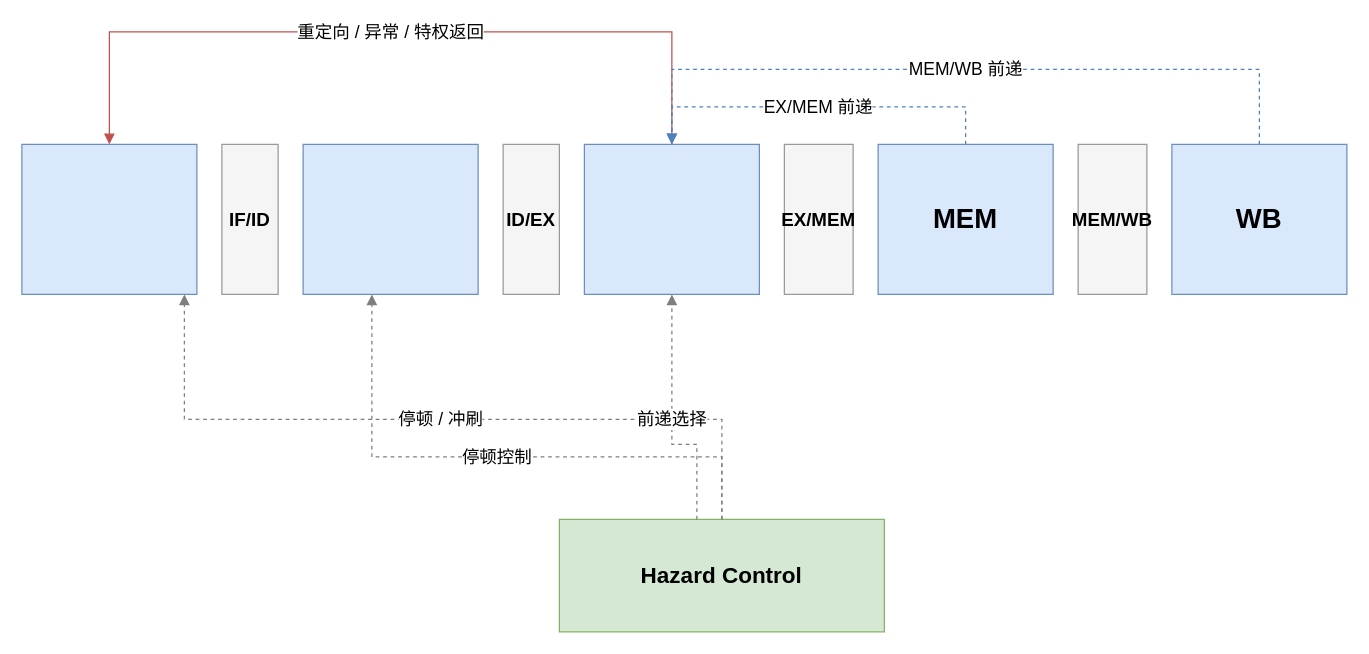
This 1369x654 diagram has some shape labels left out. The centre of each missing label's shape, as x and y in pixels:
EX: the point at 671,218
ID: the point at 390,218
IF: the point at 109,218
